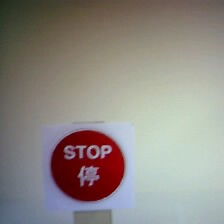stop: (39, 122, 134, 211)
